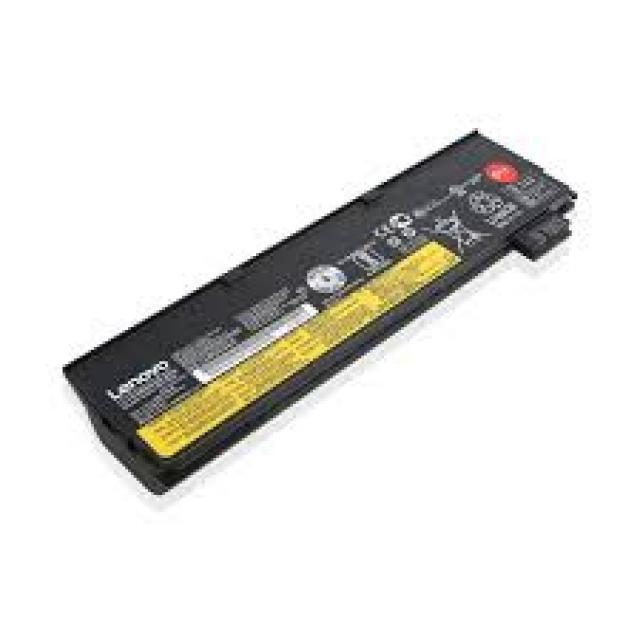battery: (63, 129, 580, 495)
